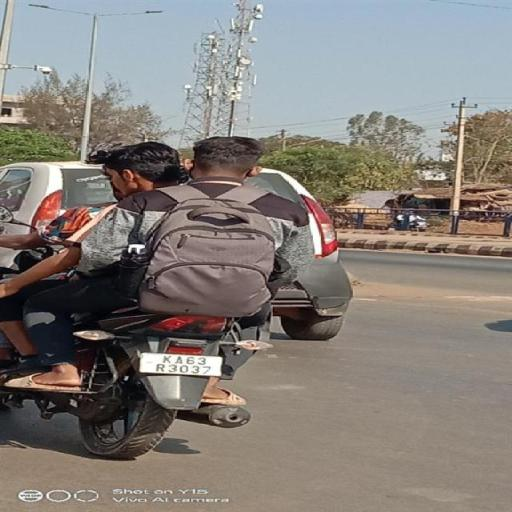tripple riding: (6, 136, 306, 327)
